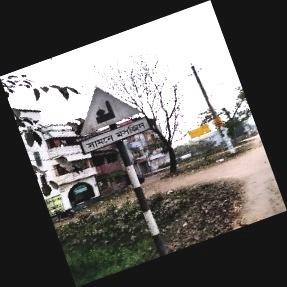Mosque in front: (80, 82, 150, 154)
